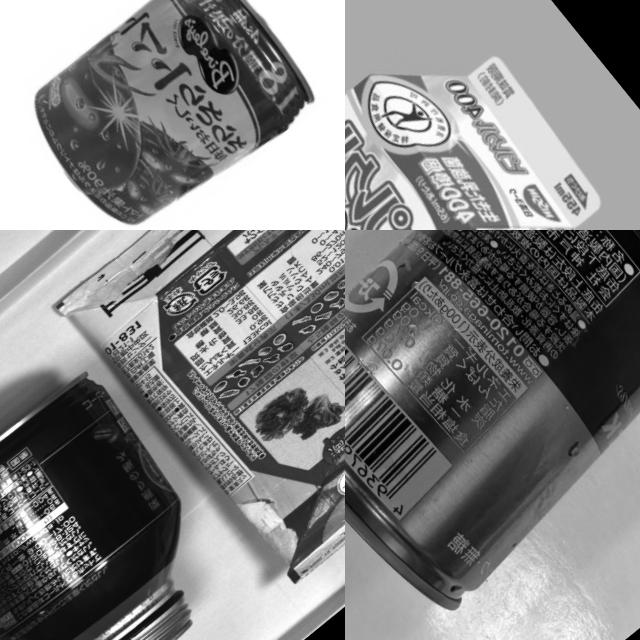Aluminium Foil: (48, 230, 345, 597), (345, 5, 640, 230)
Can: (345, 230, 640, 610), (0, 354, 269, 640), (7, 0, 336, 230)
